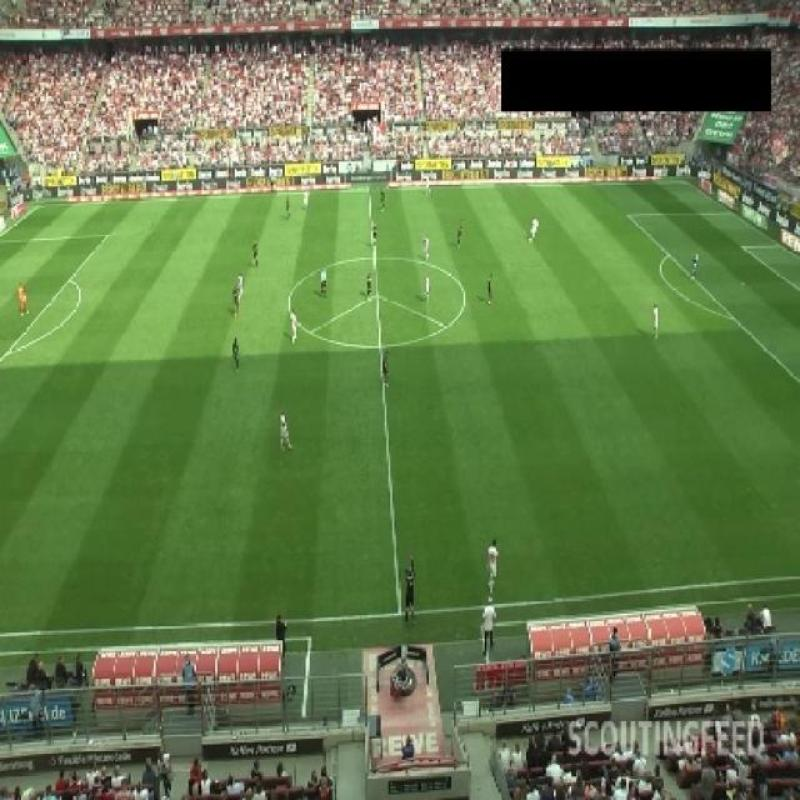1: (30, 195, 52, 213), (674, 171, 694, 187)
10: (60, 270, 80, 290), (659, 244, 677, 264)
11: (724, 306, 744, 326), (0, 341, 15, 365)
13: (360, 180, 380, 198)
14: (363, 244, 387, 270)
15: (368, 328, 392, 358)
16: (386, 603, 410, 624)
2: (723, 202, 741, 219)
3: (771, 235, 789, 252)
7: (734, 237, 752, 254)
9: (619, 206, 637, 224), (98, 226, 118, 242)
c: (450, 278, 481, 318), (278, 286, 302, 319)
